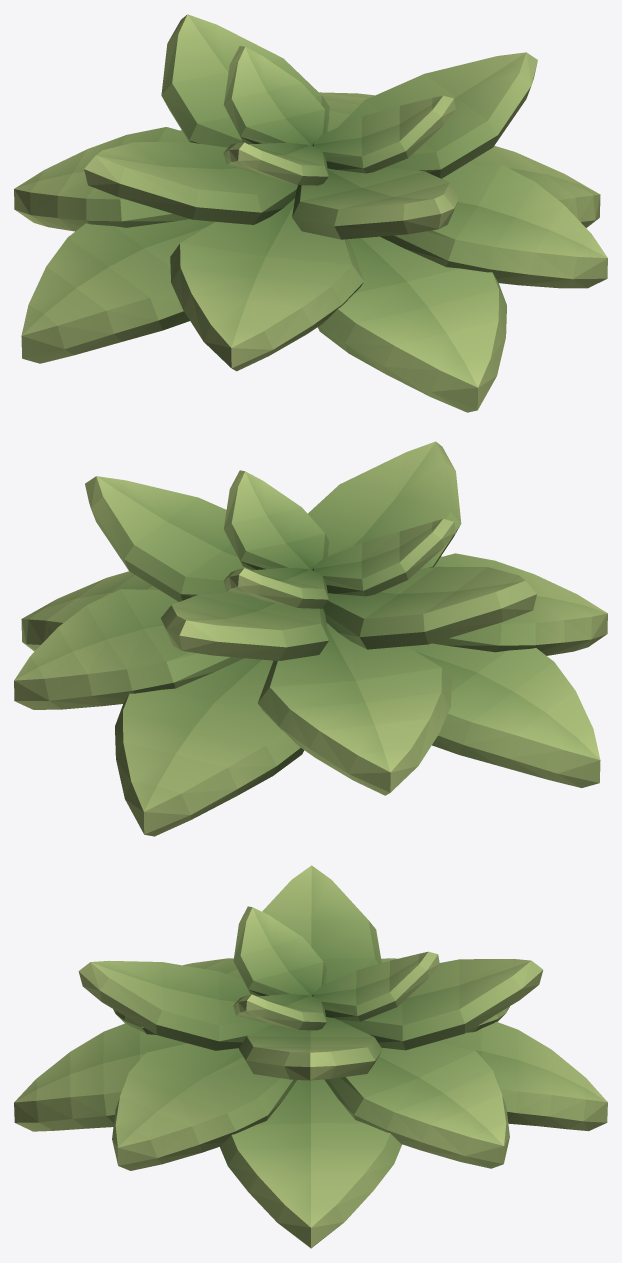
The model's file is rosette-echeveria.glb.
3 views of the same model, one above another, from view 1: azimuth 30°, elevation 25°; view 2: azimuth 150°, elevation 25°; view 3: azimuth 270°, elevation 25° (orthographic). The views are drawn at different scales.
Parts seen in each view (by area): view 1: plant; view 2: plant; view 3: plant.
Part boxes in pixels (bbox=[...]): plant: bbox=[14, 14, 607, 412]; plant: bbox=[14, 441, 607, 836]; plant: bbox=[14, 865, 607, 1248].
Bounding box in the file's own units: 0.6399 × 0.2155 × 0.6399.
